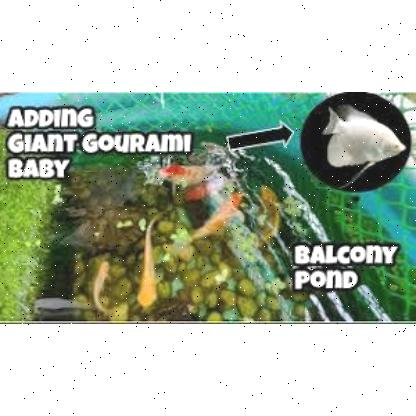gurame: (322, 103, 406, 179)
